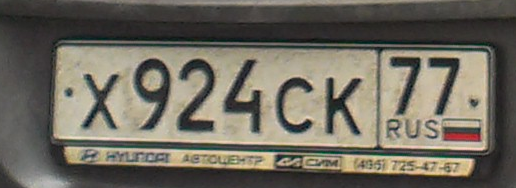character: (222, 57, 263, 137), (175, 57, 218, 132), (78, 69, 121, 132), (132, 56, 169, 128), (324, 72, 362, 139), (274, 75, 317, 132), (428, 56, 462, 117), (390, 54, 422, 116)
